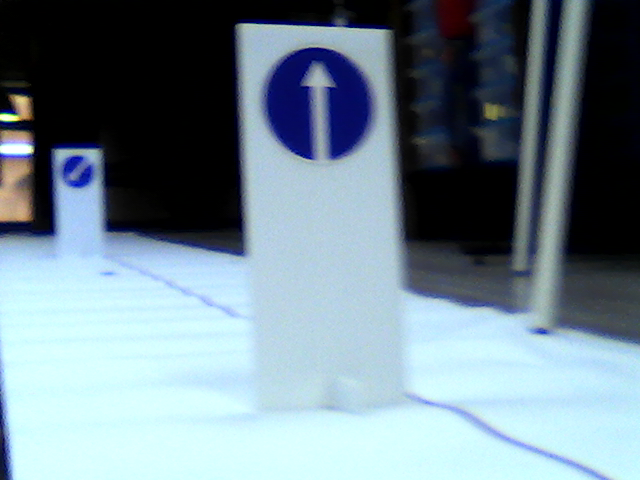forw: (271, 51, 372, 159)
